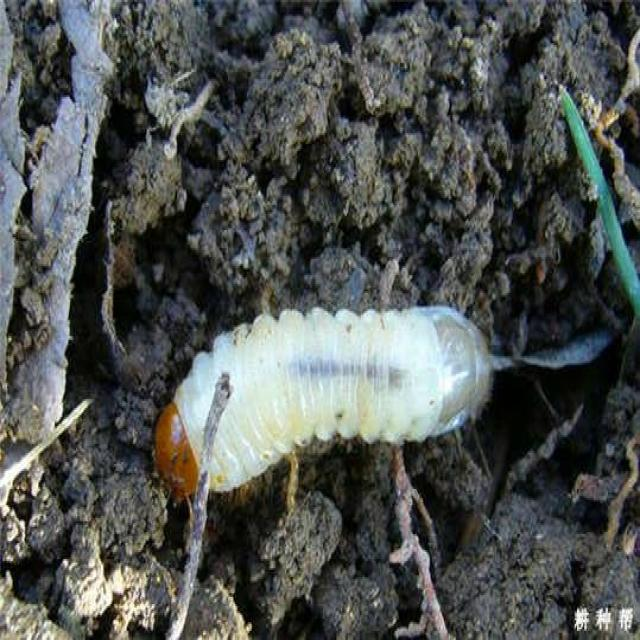Grub-Adult-: (151, 289, 498, 496)
